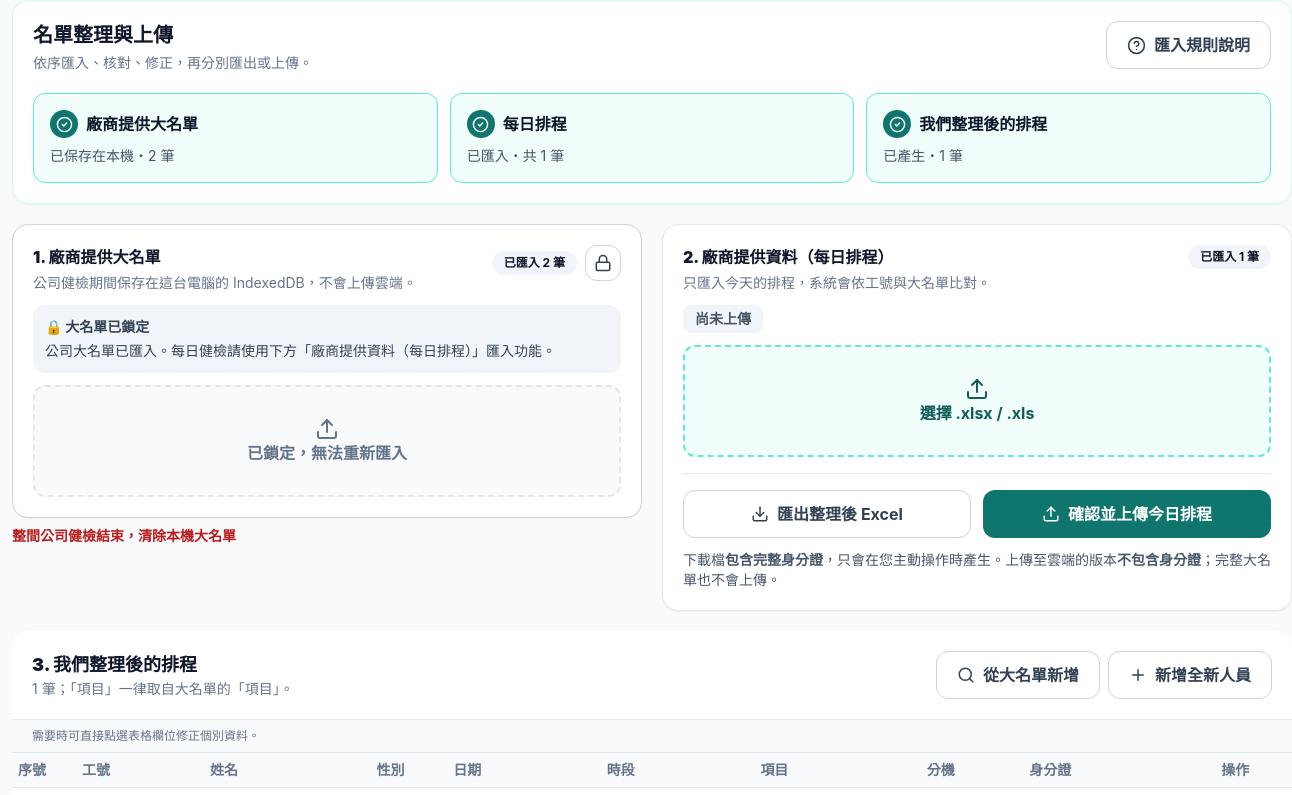
標準每日排程的持續上傳狀態 › 首次上傳失敗不能建立成功狀態，原錯誤與重試行為仍保留
Click the button "確認並上傳今日排程".
click(1127, 514)  # box x1=983 y1=490 x2=1271 y2=538
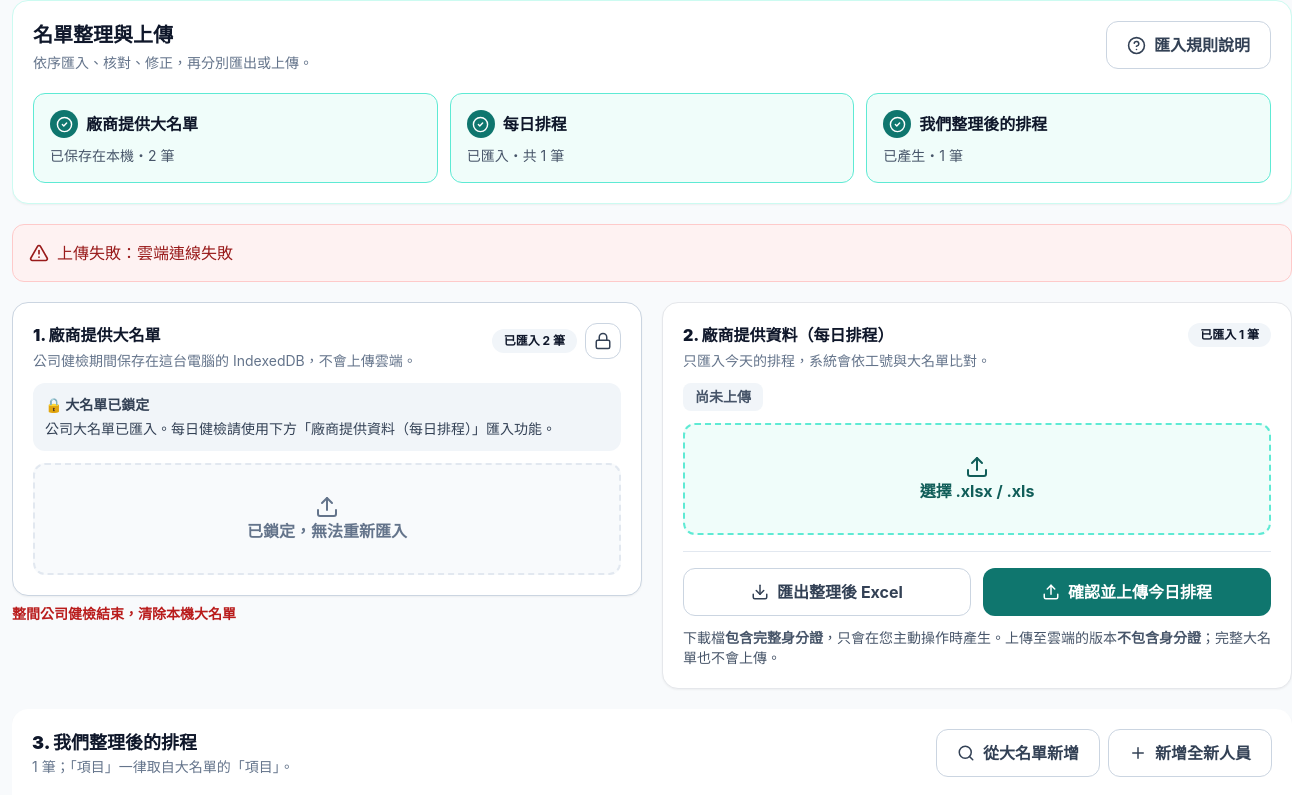
expect the message "尚未上傳" is shown: met, box x1=683 y1=383 x2=763 y2=411
expect the message "上傳失敗：雲端連線失敗" is shown: met, box x1=12 y1=224 x2=1291 y2=282
